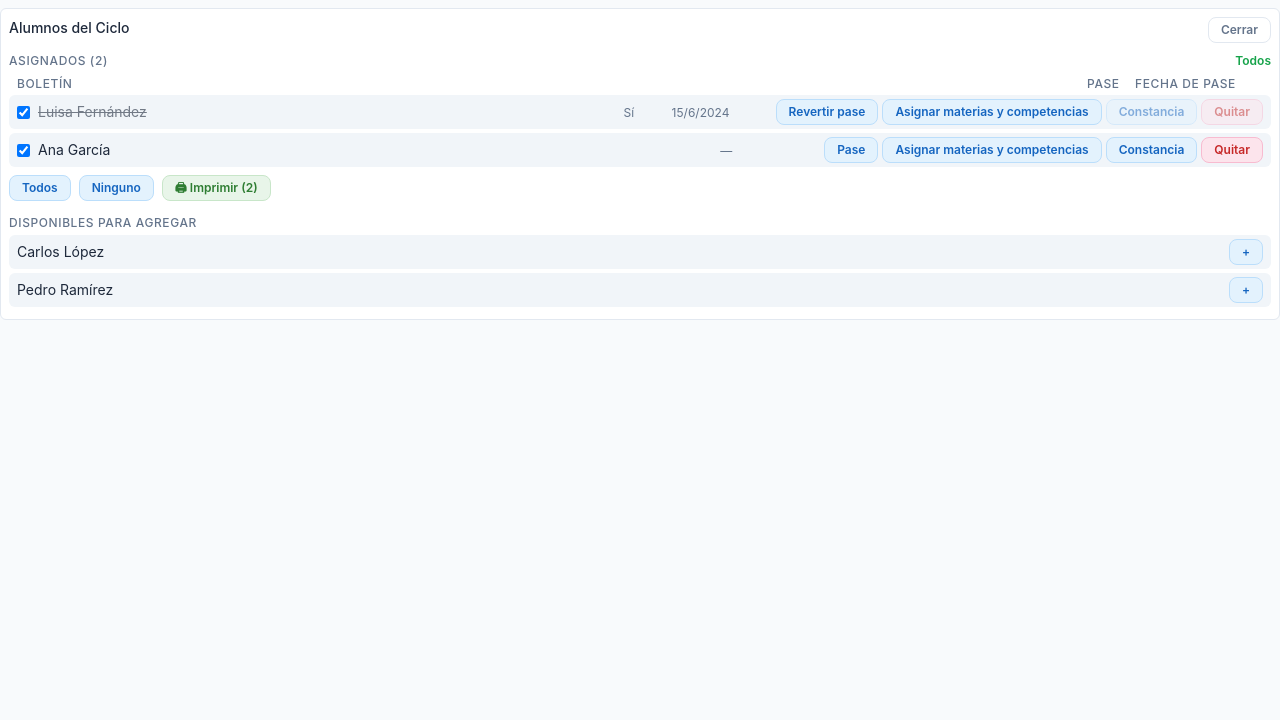
PR4 — Pase de alumno › W-33: clicking "Pase" button opens modal with date input
Click the button with test id "btn-pase-row-1" at (851,150), box left=824, top=137, right=878, bottom=163
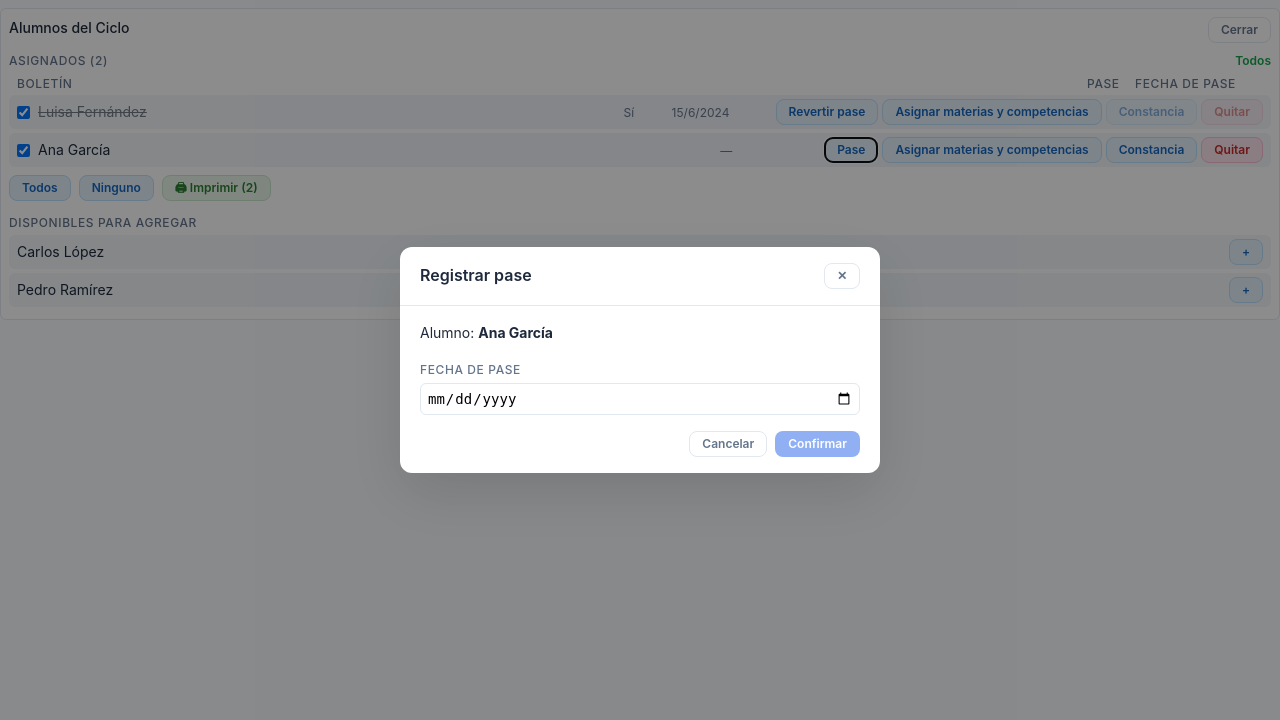
Now the element with test id "modal-pase" is shown, box left=420, top=322, right=860, bottom=457
Now the date field with test id "input-fecha-pase" is shown, box left=420, top=383, right=860, bottom=415
